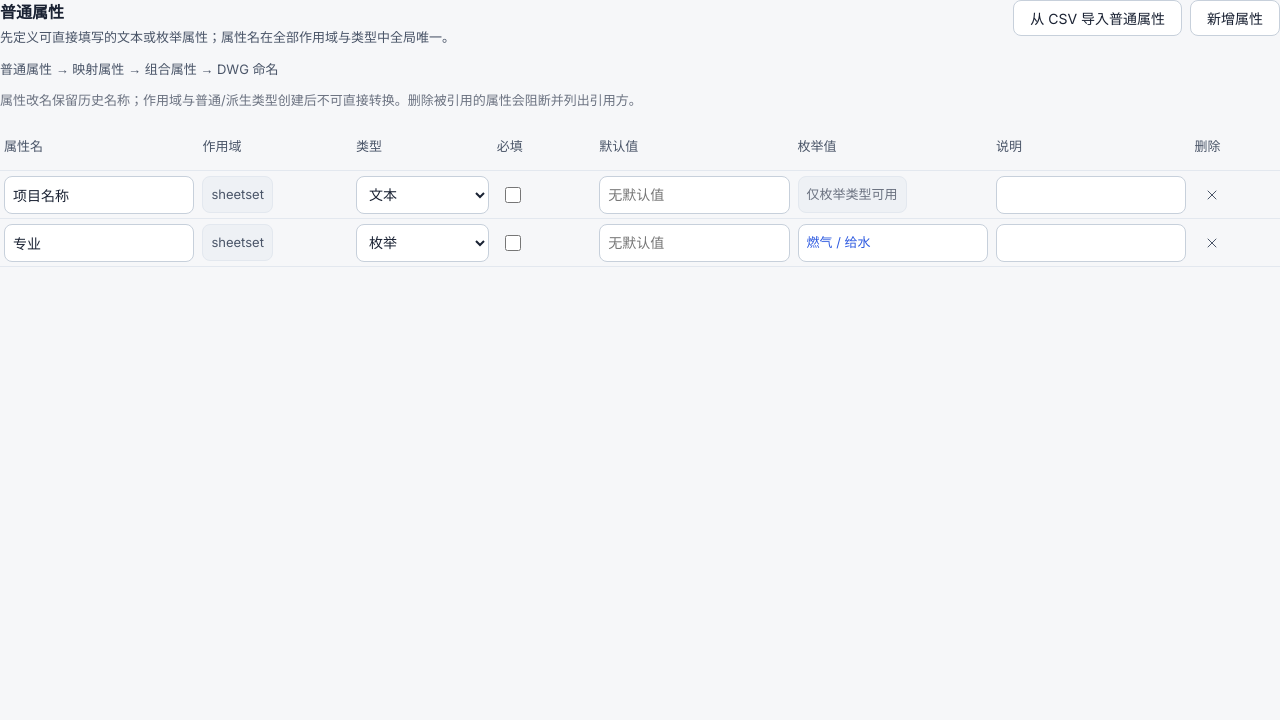
Test case: OrdinaryPropertyEditor › never renders internal enum item ids
Click the button with test id "edit-enum-prop-major".
click(893, 242)  # box left=798, top=224, right=988, bottom=262
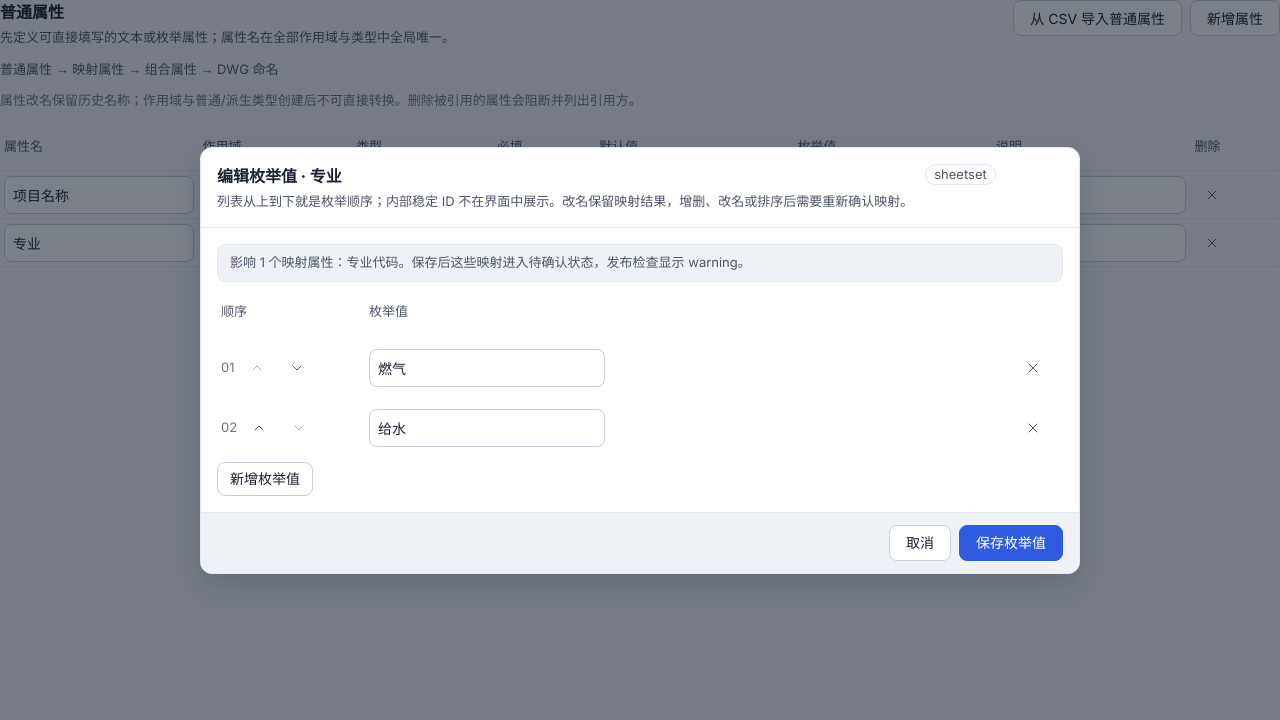
Now the dialog with test id "enum-dialog" shows "01", box left=221, top=359, right=234, bottom=375
